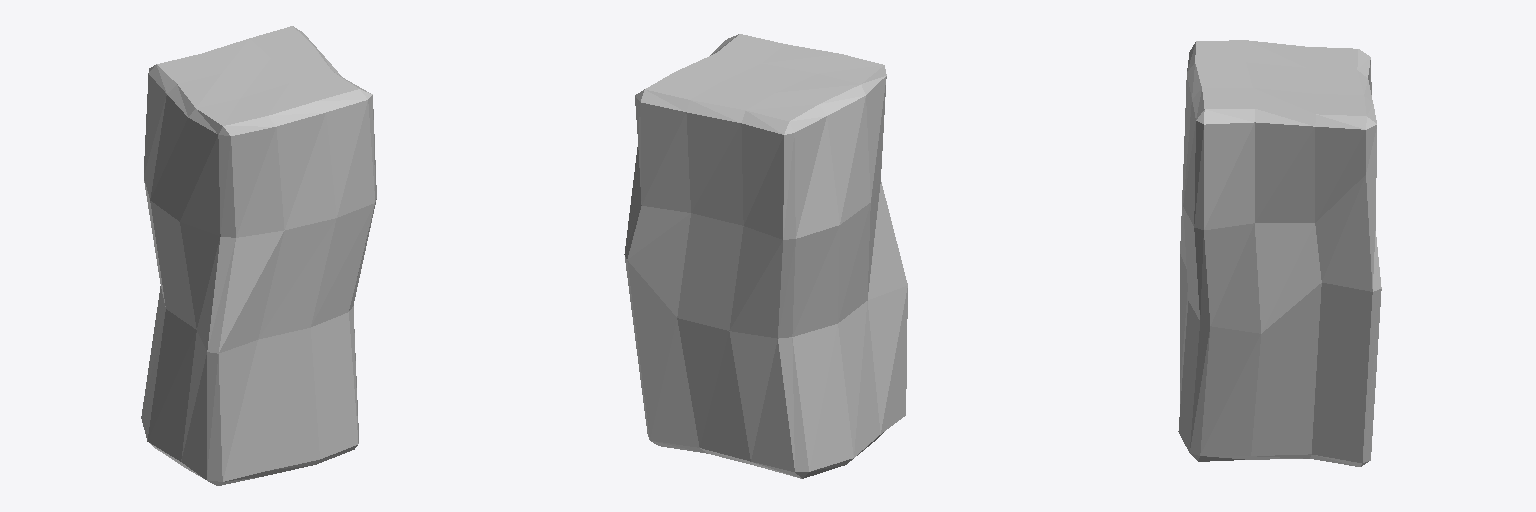
File: columnaHieloVictoria.obj
3 views of the same model, side by side, from view 1: azimuth 30°, elevation 25°; view 2: azimuth 150°, elevation 25°; view 3: azimuth 270°, elevation 25° (orthographic).
Parts seen in each view (by area): view 1: Object009; view 2: Object009; view 3: Object009.
Boxes of the visible parts, x1=… form: Object009: x1=141, y1=26, x2=376, y2=485; Object009: x1=624, y1=34, x2=907, y2=478; Object009: x1=1178, y1=40, x2=1381, y2=466.
Bounding box in the file's own units: 48.73 × 85.65 × 44.11.